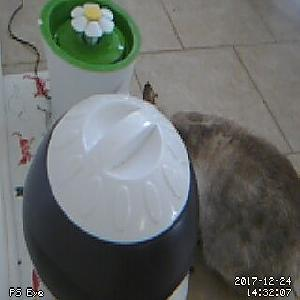cat: (141, 79, 300, 300)
fountain: (37, 1, 141, 72)
